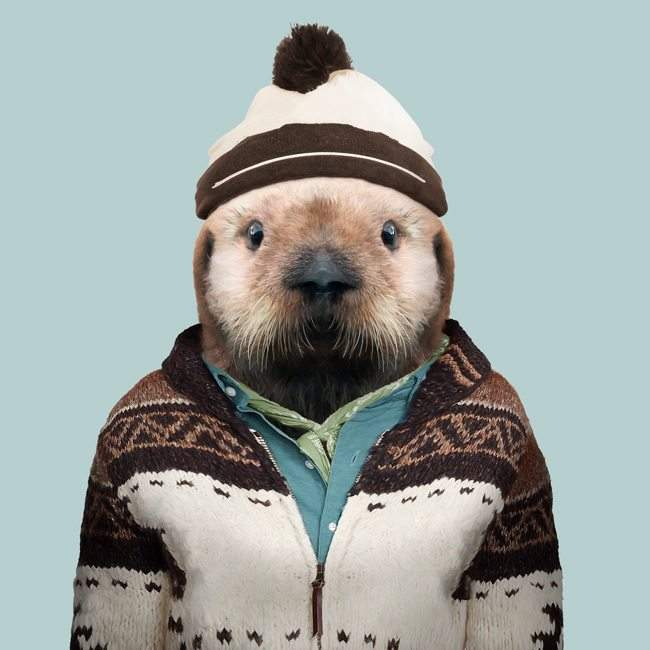otter: (180, 157, 456, 393)
